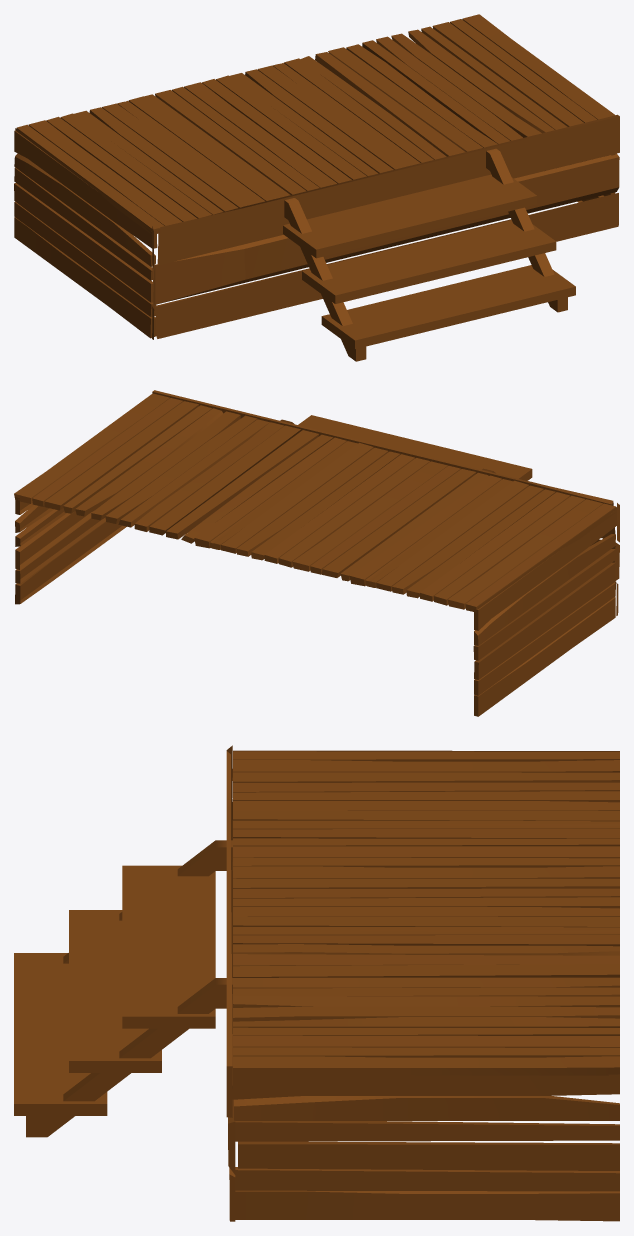
The model's file is door stairs.fbx.
3 renders of one model, top to bottom at view 1: azimuth 30°, elevation 25°; view 2: azimuth 150°, elevation 25°; view 3: azimuth 270°, elevation 25°, orthographic. The views are drawn at different scales.
Parts seen in each view (by area): view 1: Home_017; view 2: Home_017; view 3: Home_017.
Boxes of the visible parts, <box> form: Home_017: <box>14,14,619,361</box>; Home_017: <box>14,390,619,716</box>; Home_017: <box>14,745,619,1221</box>.
Bounding box in the file's own units: 705 × 165 × 568.
